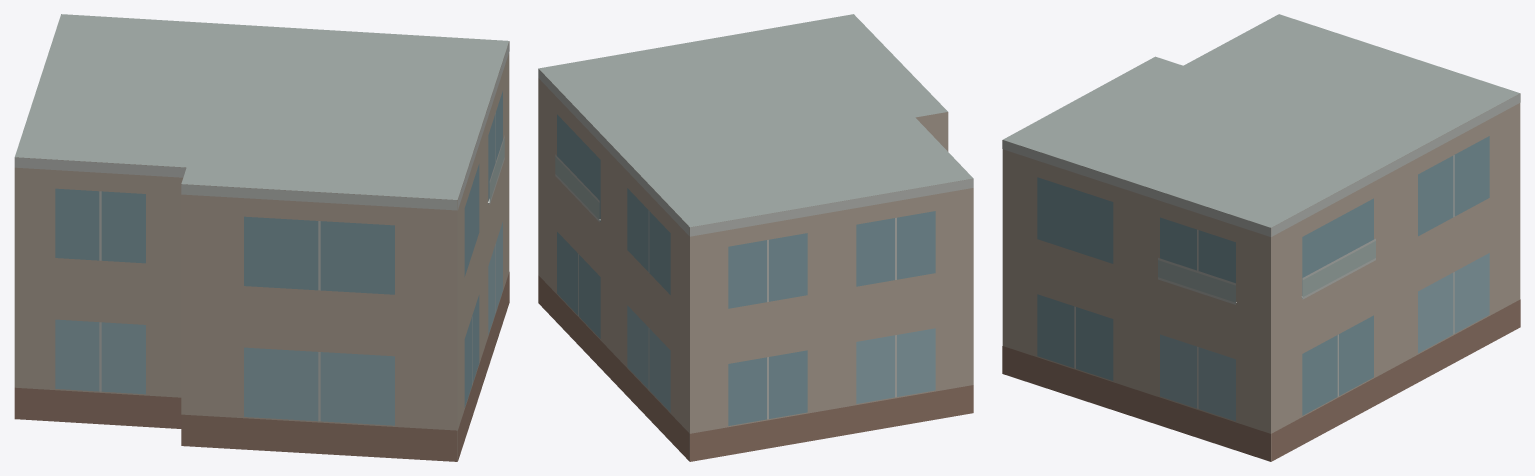
Rendered from survey-upis-32813732.glb.
3 views of the same model, side by side, from view 1: azimuth 30°, elevation 25°; view 2: azimuth 150°, elevation 25°; view 3: azimuth 270°, elevation 25° (orthographic). The views are drawn at different scales.
Parts seen in each view (by area): view 1: survey-upis-32813732.tmp; view 2: survey-upis-32813732.tmp; view 3: survey-upis-32813732.tmp.
Part boxes in pixels (left/top/right/bottom): survey-upis-32813732.tmp: left=14, top=14, right=509, bottom=461; survey-upis-32813732.tmp: left=538, top=14, right=973, bottom=461; survey-upis-32813732.tmp: left=1002, top=14, right=1520, bottom=461.
Bounding box in the file's own units: 11.96 × 6.1 × 12.24.
